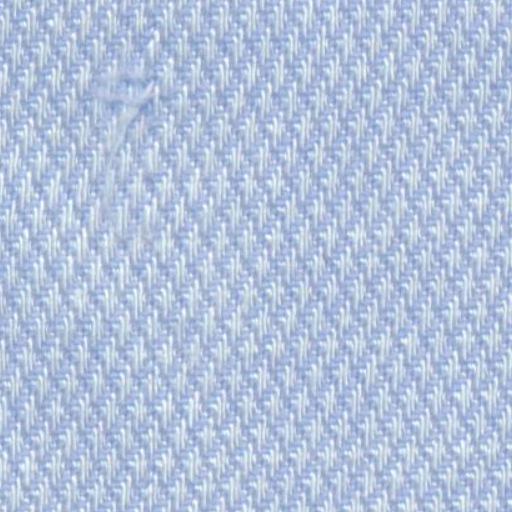DuanSha: (84, 54, 177, 194)
